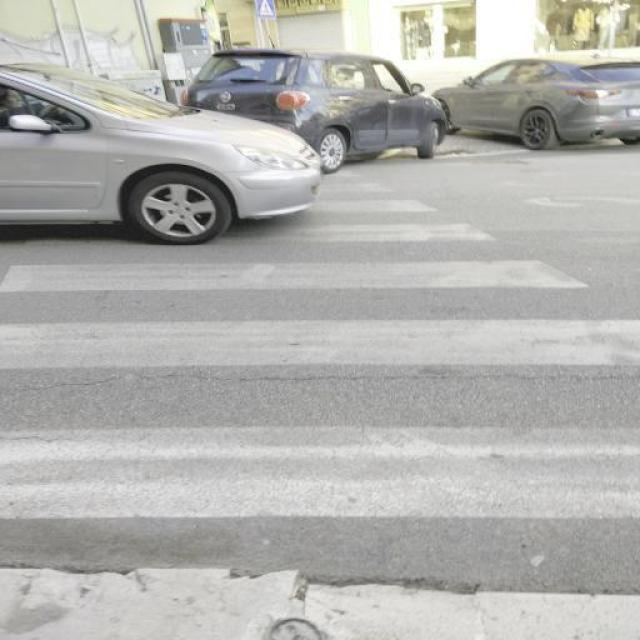crosswalk: (1, 179, 640, 640)
